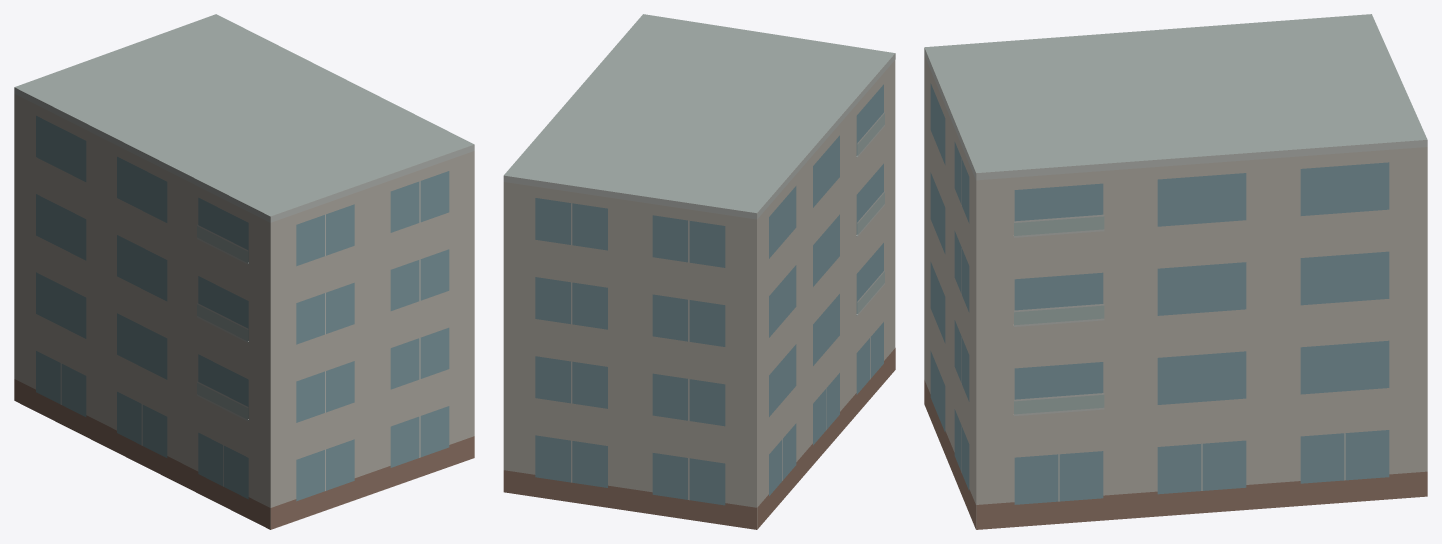
File: survey-upis-32908956.glb
3 renders of one model, left to right at view 1: azimuth 30°, elevation 25°; view 2: azimuth 150°, elevation 25°; view 3: azimuth 270°, elevation 25°, orthographic. The views are drawn at different scales.
Visible parts, largest first — view 1: survey-upis-32908956.tmp; view 2: survey-upis-32908956.tmp; view 3: survey-upis-32908956.tmp.
Boxes of the visible parts, x1,y1,x2,y2 form: survey-upis-32908956.tmp: (14, 14, 474, 529); survey-upis-32908956.tmp: (503, 14, 895, 529); survey-upis-32908956.tmp: (924, 14, 1427, 529).
Size of the model in its own units: 11.59 by 12.1 by 15.48.
